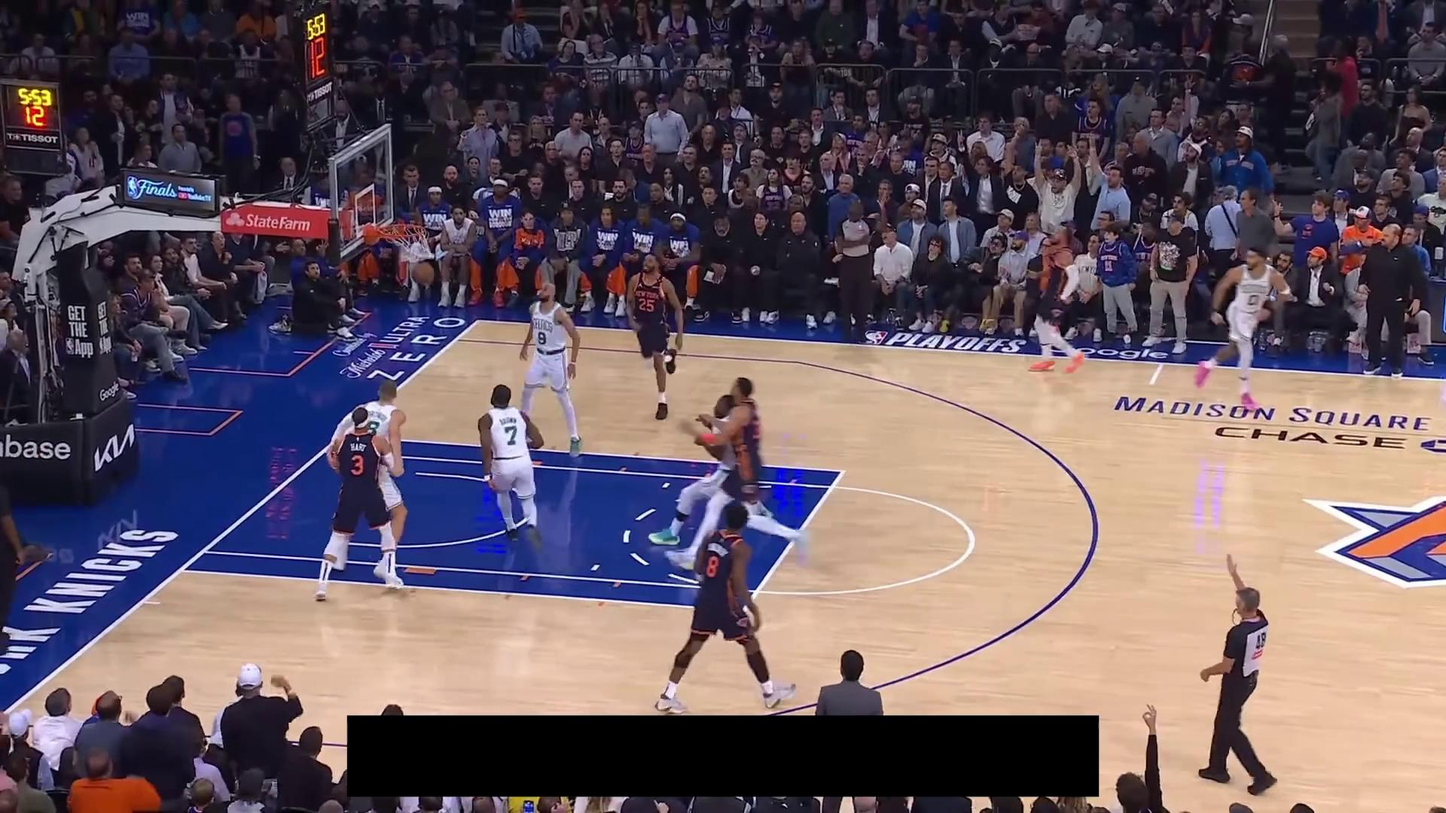ball: (412, 260, 435, 284)
number: (706, 554, 720, 579), (350, 454, 365, 476), (504, 425, 518, 446), (638, 297, 655, 313), (1246, 293, 1260, 308), (536, 330, 548, 346)
player: (653, 501, 801, 714), (665, 377, 809, 571), (648, 394, 773, 545), (314, 407, 406, 603), (326, 379, 409, 580), (1193, 245, 1292, 411), (477, 382, 547, 557), (517, 282, 584, 458), (623, 250, 686, 422), (1027, 224, 1087, 374)
referee: (1196, 552, 1278, 796), (833, 199, 886, 344), (0, 449, 26, 656)
rim: (378, 223, 429, 240)
